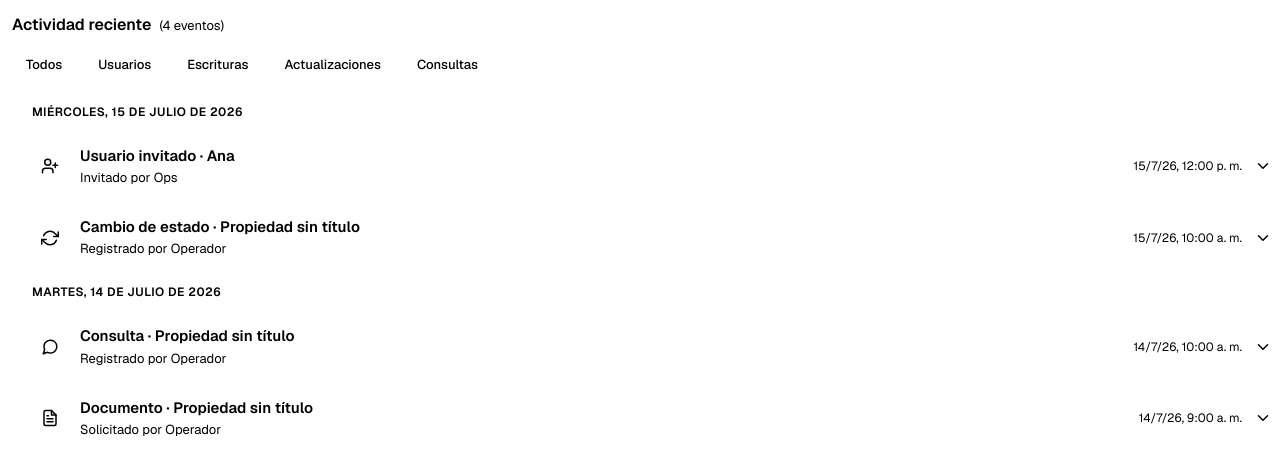
it: TenantActivityFeed — visible-count label › updates the count to the visible items after filtering
This screenshot has width=1286, height=453.
Click the button with test id "tenant-activity-filter-user" at point(125, 65), box [84, 49, 165, 80]
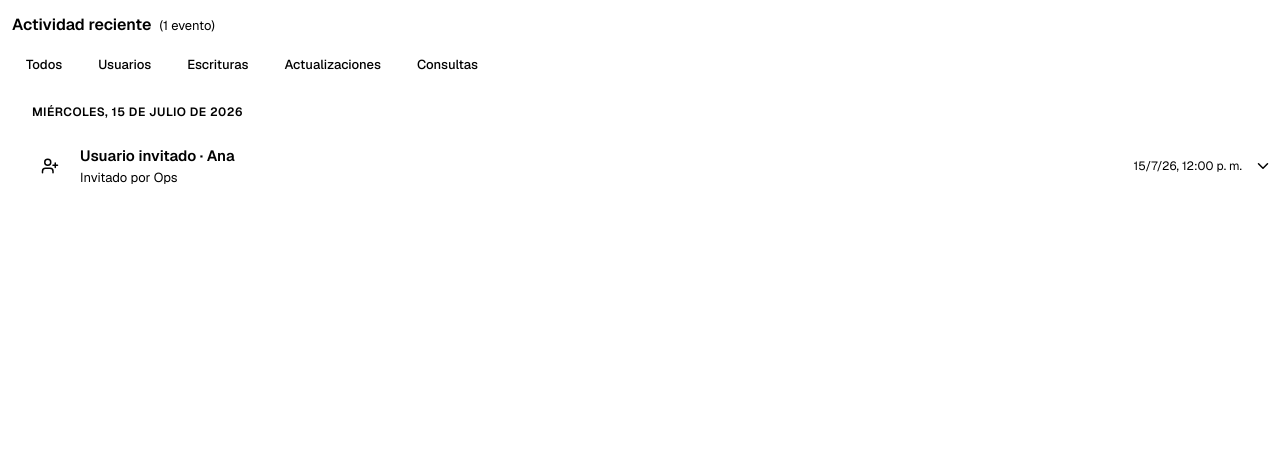
Now the text "(1 evento)" is shown, box [159, 16, 215, 36]
